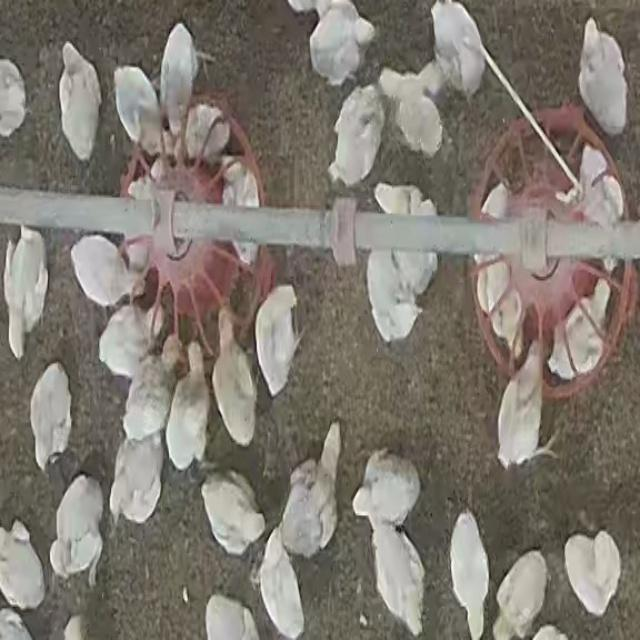chicken: (494, 344, 560, 472), (280, 426, 344, 556), (368, 520, 426, 637), (545, 279, 612, 380), (211, 310, 257, 448), (108, 55, 170, 155), (164, 338, 210, 472), (250, 283, 303, 396), (3, 226, 48, 357), (382, 186, 436, 294), (578, 16, 627, 135), (199, 470, 266, 557), (327, 84, 384, 186), (52, 474, 104, 584), (120, 338, 173, 445), (431, 0, 488, 99), (364, 253, 426, 343), (352, 448, 420, 530), (448, 512, 491, 640), (58, 41, 102, 161), (108, 434, 164, 528), (308, 4, 372, 86), (70, 234, 138, 311), (257, 529, 305, 637), (156, 23, 203, 133), (96, 298, 154, 384), (29, 362, 72, 477), (563, 531, 620, 617), (492, 551, 546, 640), (391, 76, 446, 159), (223, 159, 264, 269), (476, 255, 520, 348), (0, 522, 46, 610), (575, 148, 623, 225), (184, 100, 227, 162), (546, 319, 578, 381)
